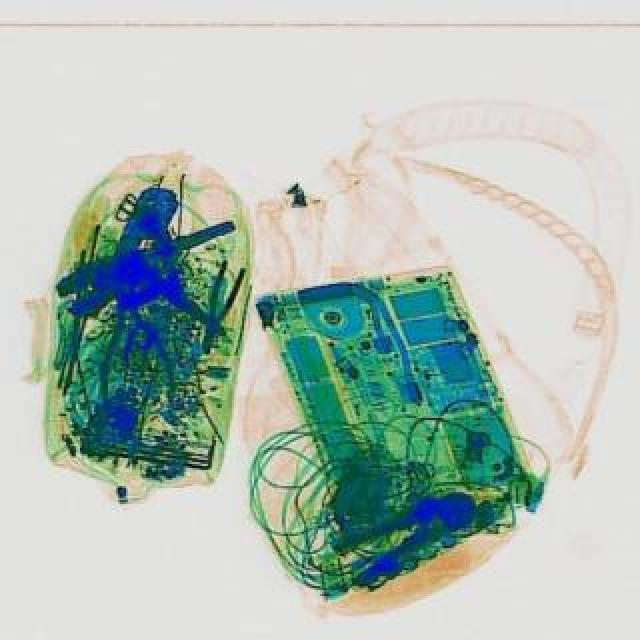wrench: (50, 220, 262, 362), (330, 474, 494, 588), (104, 180, 208, 316), (90, 278, 180, 412), (192, 256, 252, 356)
